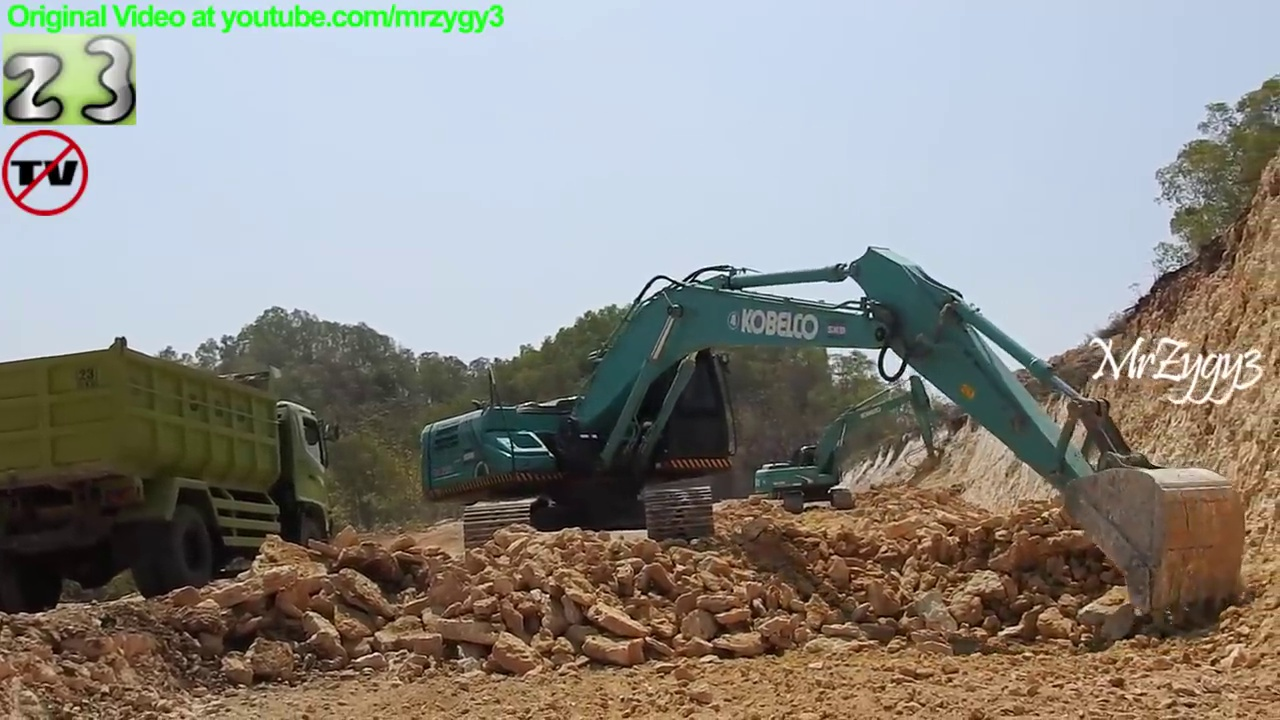excavator: (417, 240, 1251, 640)
excavator breaker: (751, 369, 947, 517)
truck: (1, 329, 348, 620)
